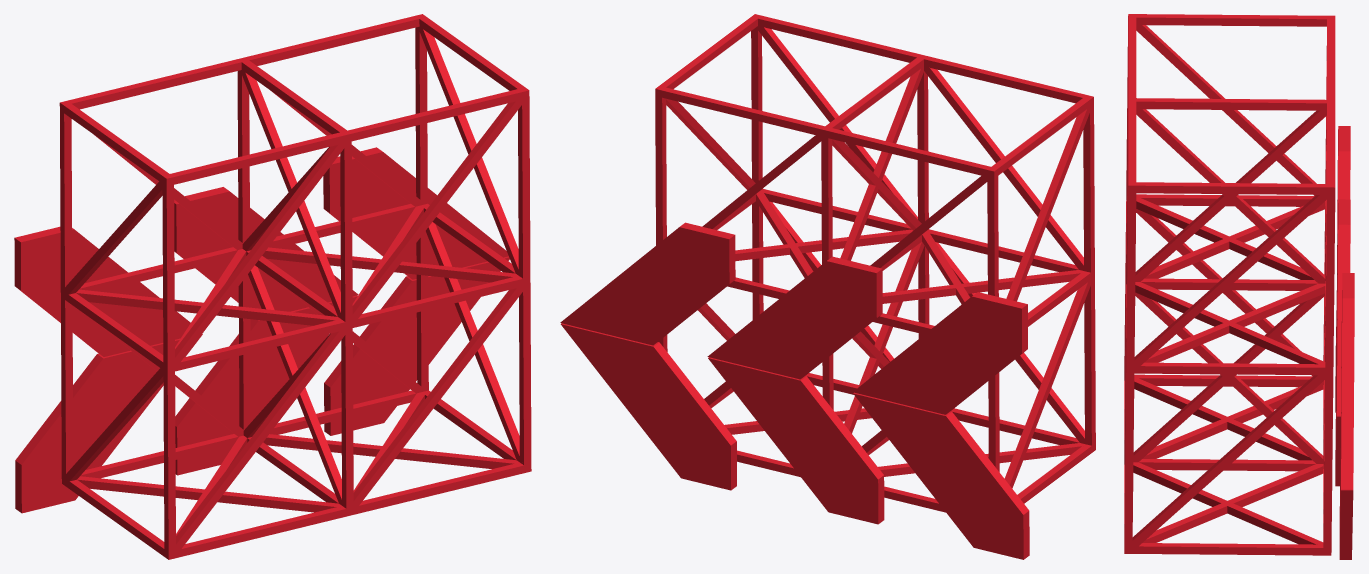
Rendered from arrow_sign.obj.
The picture shows the model from 3 angles, left to right: view 1: azimuth 30°, elevation 25°; view 2: azimuth 150°, elevation 25°; view 3: azimuth 270°, elevation 25°; orthographic projection. The views are drawn at different scales.
Visible parts, largest first — view 1: structure_obj_0.002, arrow_3_obj_0.005, arrow_1_obj_0, arrow_2_obj_0.006; view 2: structure_obj_0.002, arrow_2_obj_0.006, arrow_1_obj_0, arrow_3_obj_0.005; view 3: structure_obj_0.002, arrow_1_obj_0, arrow_2_obj_0.006, arrow_3_obj_0.005.
Boxes of the visible parts, x1,y1,x2,y2 form: structure_obj_0.002: (59, 14, 531, 559); arrow_3_obj_0.005: (14, 226, 202, 513); arrow_1_obj_0: (323, 147, 509, 435); arrow_2_obj_0.006: (174, 187, 358, 475); structure_obj_0.002: (655, 14, 1095, 512); arrow_2_obj_0.006: (707, 256, 884, 524); arrow_1_obj_0: (560, 222, 736, 490); arrow_3_obj_0.005: (853, 292, 1029, 559); structure_obj_0.002: (1124, 14, 1335, 555); arrow_1_obj_0: (1339, 273, 1354, 559); arrow_2_obj_0.006: (1335, 199, 1350, 486); arrow_3_obj_0.005: (1335, 126, 1350, 412).
Size of the model in its own units: 25.63 by 20.04 by 10.7.
